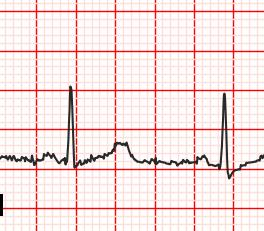LVH: (90, 137, 146, 167)
